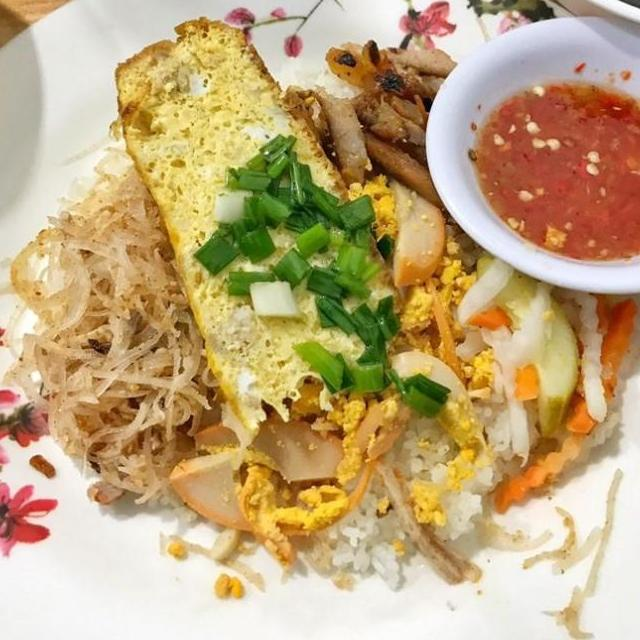bi: (0, 143, 218, 507)
cha: (107, 14, 402, 446)
com: (315, 395, 543, 592)
com suon bi cha trung: (0, 0, 640, 640)
dua chua: (450, 251, 640, 520)
suon: (309, 28, 465, 217)
trung: (165, 371, 412, 547), (343, 164, 452, 294)
